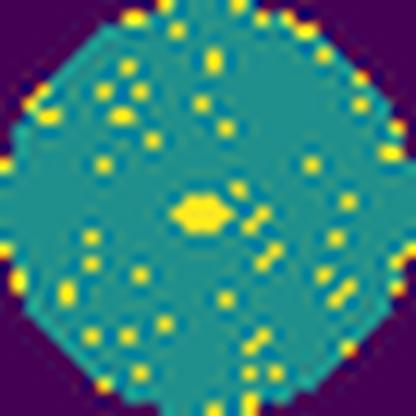Center: (166, 187, 243, 237)
